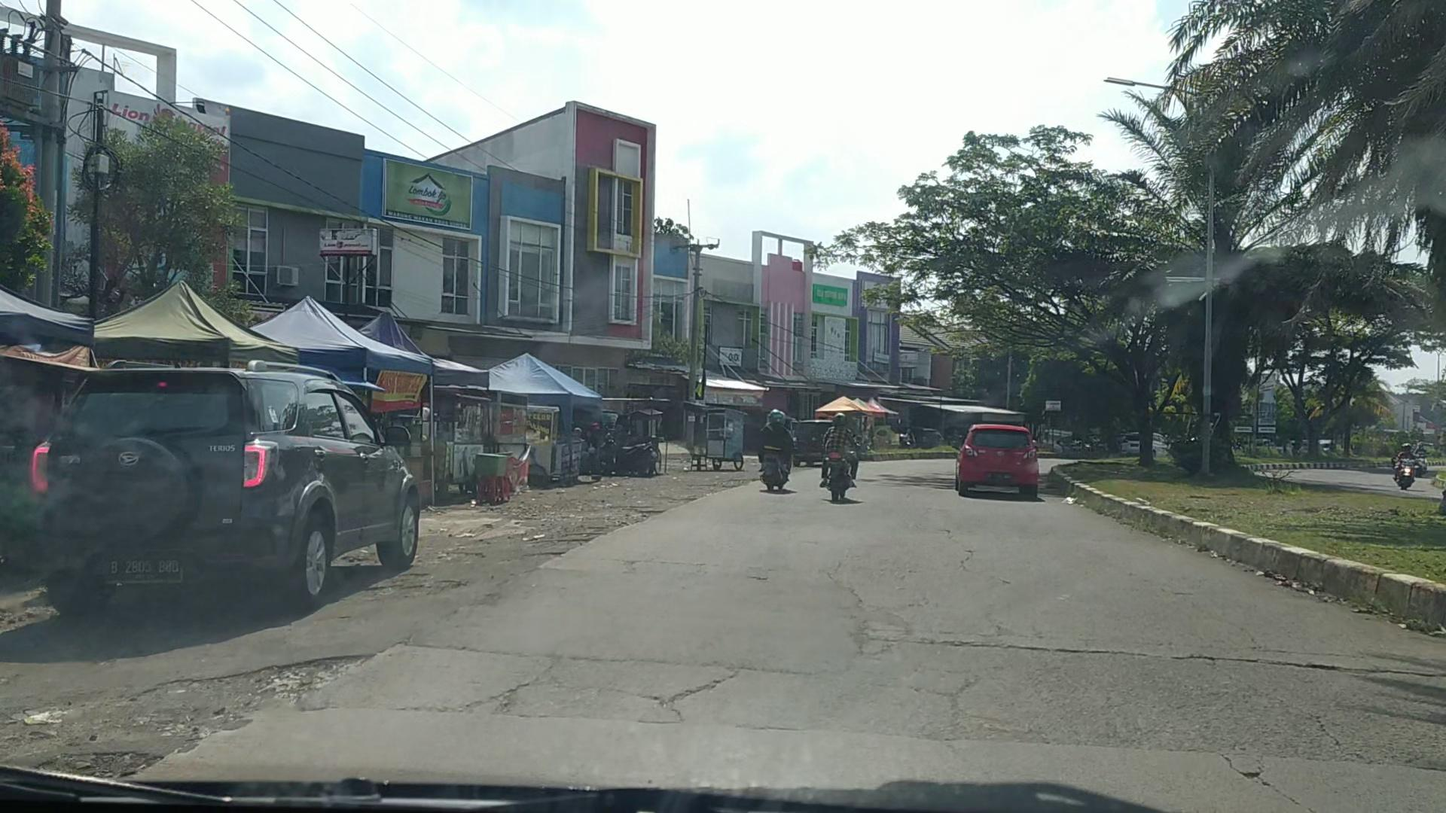pothole: (138, 655, 370, 711)
